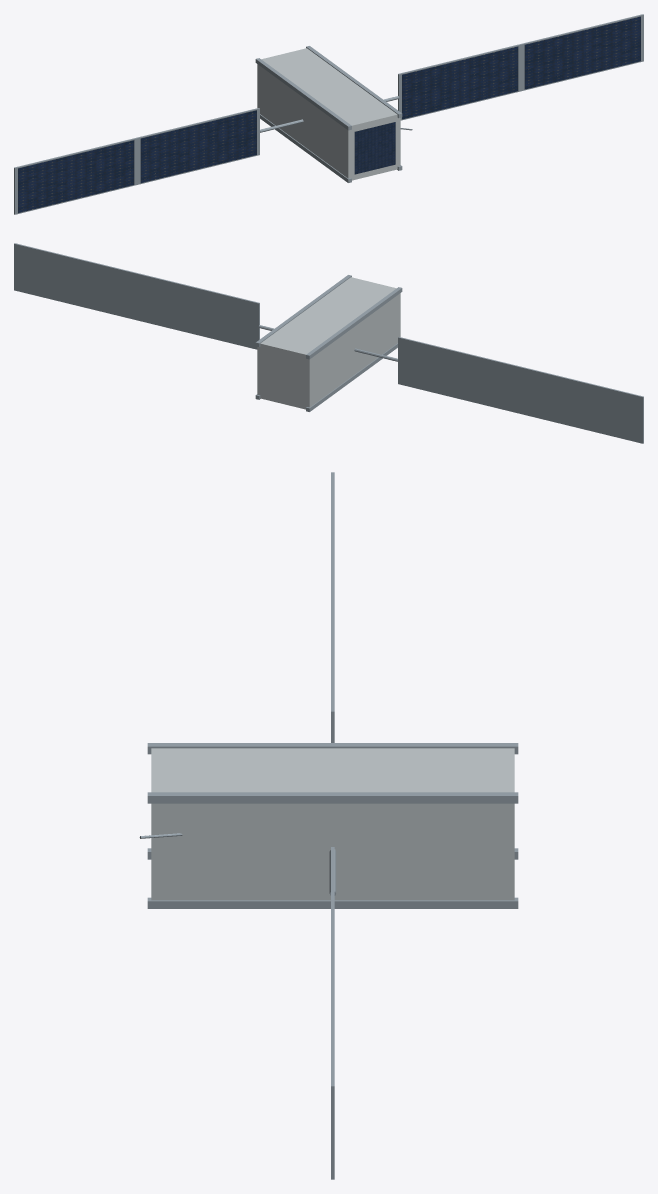
The model's file is ref-cubesat-3u-43014.glb.
The picture shows the model from 3 angles, top to bottom: view 1: azimuth 30°, elevation 25°; view 2: azimuth 150°, elevation 25°; view 3: azimuth 270°, elevation 25°; orthographic projection. The views are drawn at different scales.
Parts seen in each view (by area): view 1: Photovoltaic laminates (×4), Spacecraft body, Array frame (×4), Body-mounted cells, Dispenser rail (×3); view 2: Array frame (×4), Spacecraft body, Dispenser rail (×3); view 3: Spacecraft body, Dispenser rail (×3).
Part boxes in pixels (x1=…): Photovoltaic laminates (×4): x1=18, y1=16, x2=640, y2=212; Spacecraft body: x1=257, y1=48, x2=400, y2=180; Array frame (×4): x1=14, y1=14, x2=643, y2=214; Body-mounted cells: x1=354, y1=122, x2=395, y2=174; Dispenser rail (×3): x1=255, y1=46, x2=402, y2=182; Array frame (×4): x1=14, y1=243, x2=643, y2=443; Spacecraft body: x1=257, y1=277, x2=400, y2=409; Dispenser rail (×3): x1=255, y1=275, x2=402, y2=411; Spacecraft body: x1=151, y1=748, x2=514, y2=900; Dispenser rail (×3): x1=147, y1=743, x2=518, y2=908.
Bounding box in the file's own units: 1.2 × 0.103 × 0.3125.
3 materials, 1 textured.
